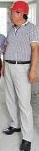boots: (2, 125, 20, 133), (0, 111, 7, 118)
hard-hat: (0, 14, 7, 24)
